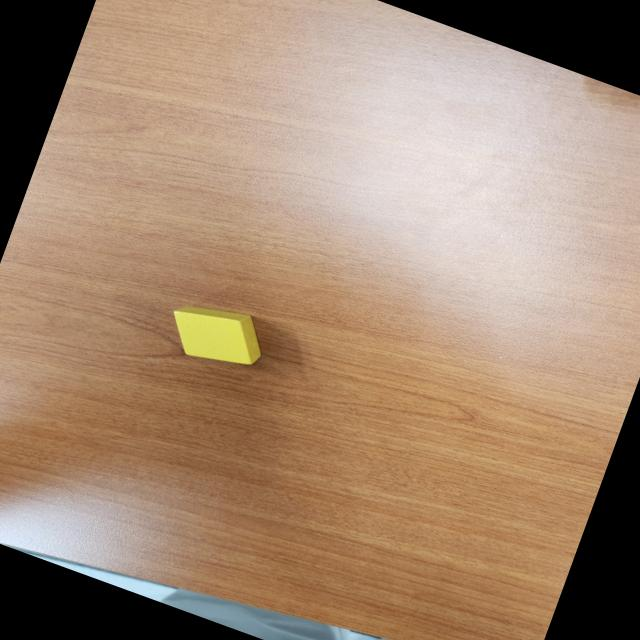yellow: (162, 290, 272, 378)
